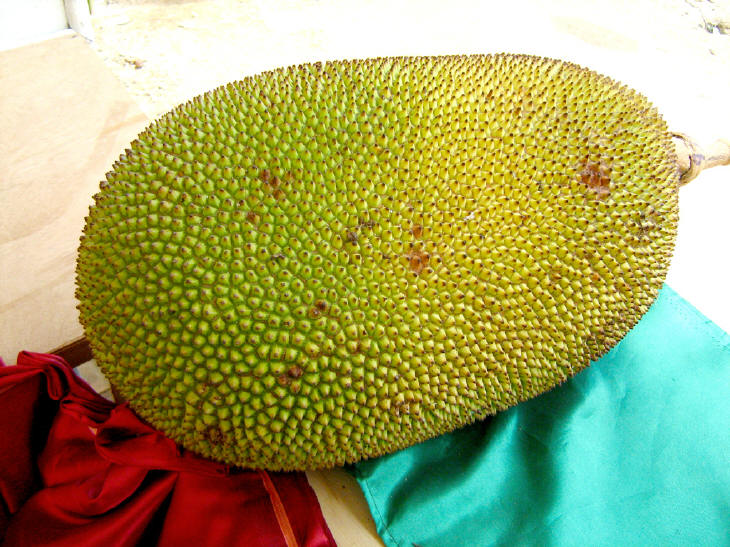jackfruit: (75, 50, 728, 474)
